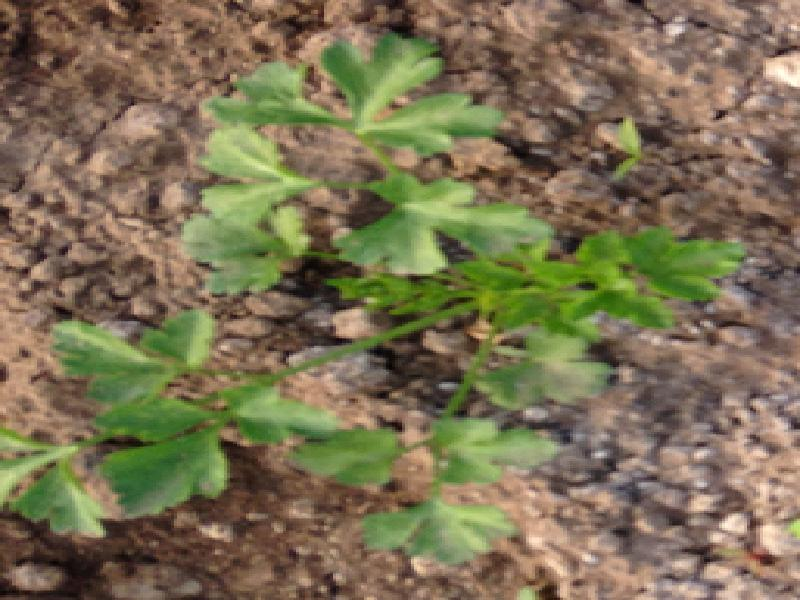radish: (30, 0, 673, 585)
